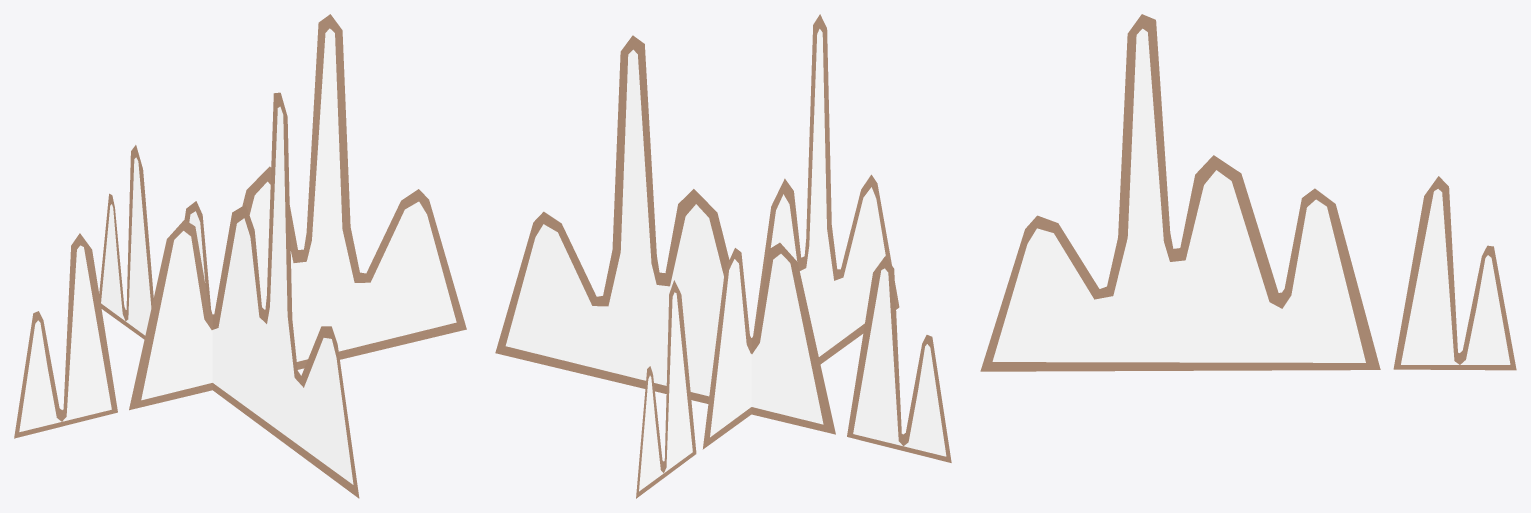
Rendered from GrassSmall.glb.
The picture shows the model from 3 angles, left to right: view 1: azimuth 30°, elevation 25°; view 2: azimuth 150°, elevation 25°; view 3: azimuth 270°, elevation 25°; orthographic projection. The views are drawn at different scales.
Parts seen in each view (by area): view 1: Grass.014; view 2: Grass.014; view 3: Grass.014.
Boxes of the visible parts, <box> form: Grass.014: <box>14,14,466,498</box>; Grass.014: <box>495,14,951,498</box>; Grass.014: <box>980,14,1516,371</box>.
Size of the model in its own units: 0.3322 by 0.2445 by 0.3322.
